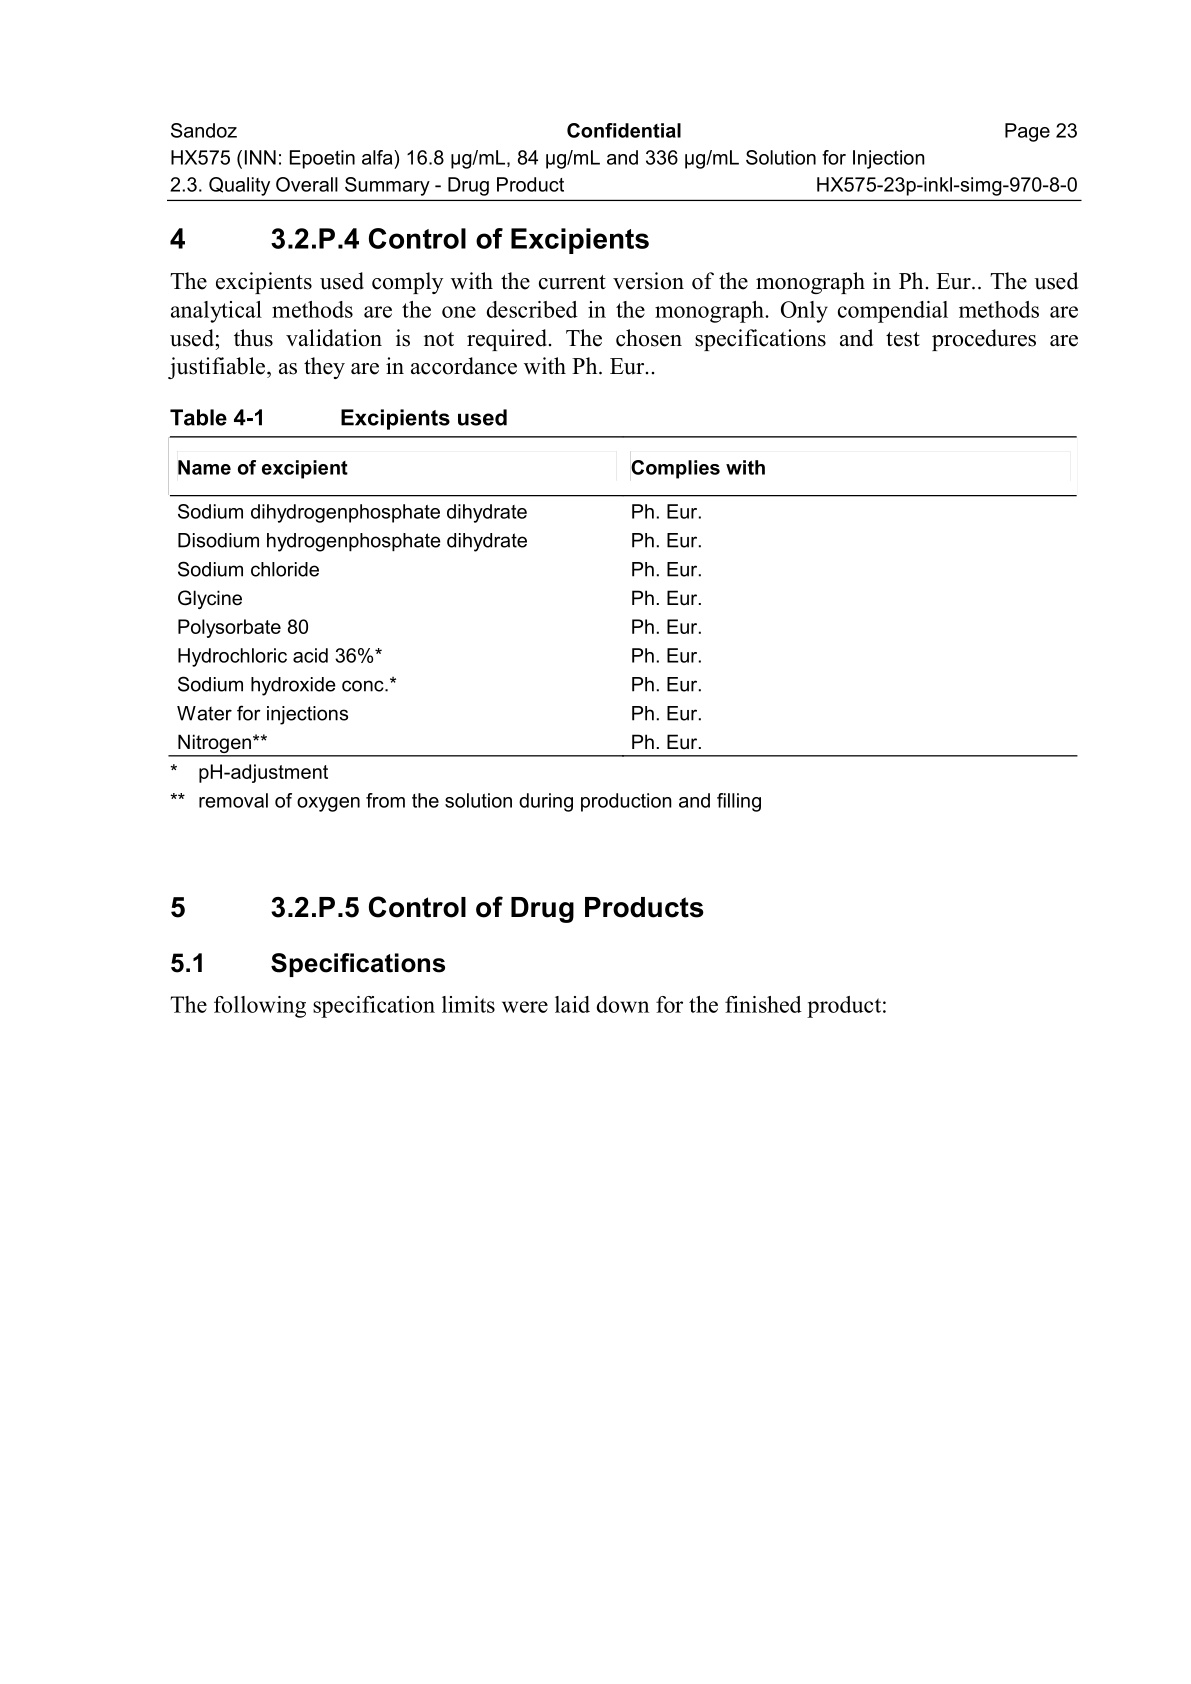partial_lined: (166, 434, 1075, 758)
